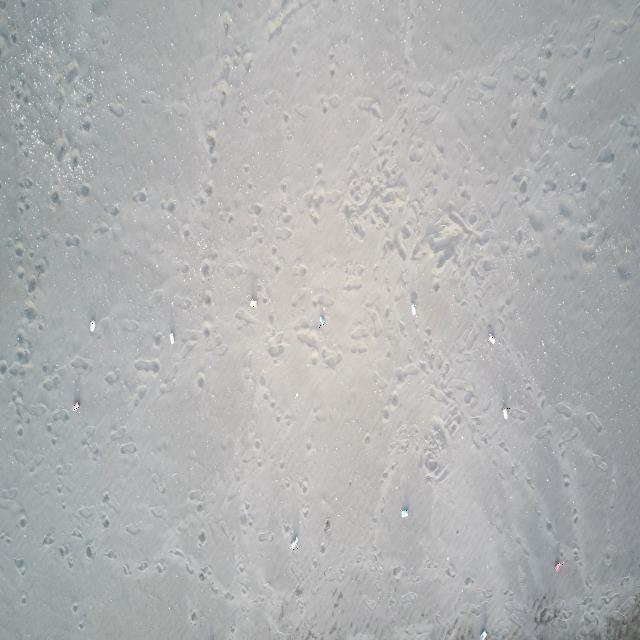Garbage: (553, 560, 563, 572), (487, 332, 495, 344), (71, 400, 79, 411), (88, 320, 95, 332), (291, 537, 298, 548), (480, 629, 487, 639), (168, 331, 173, 344), (249, 298, 256, 307), (400, 507, 407, 516), (503, 407, 508, 419), (319, 315, 324, 326), (411, 303, 415, 316)
